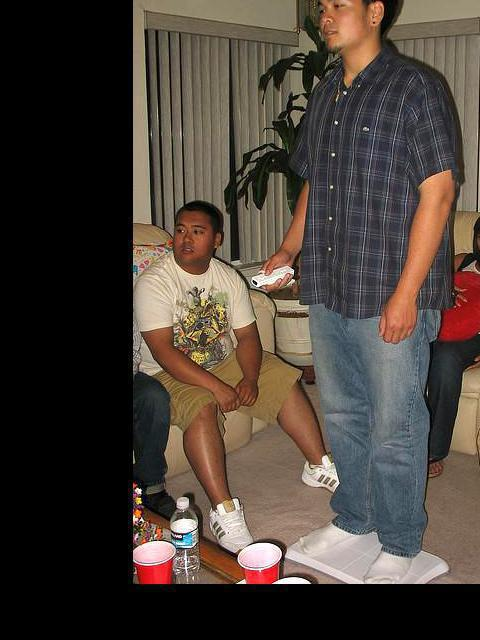Matera: (220, 15, 375, 367)
